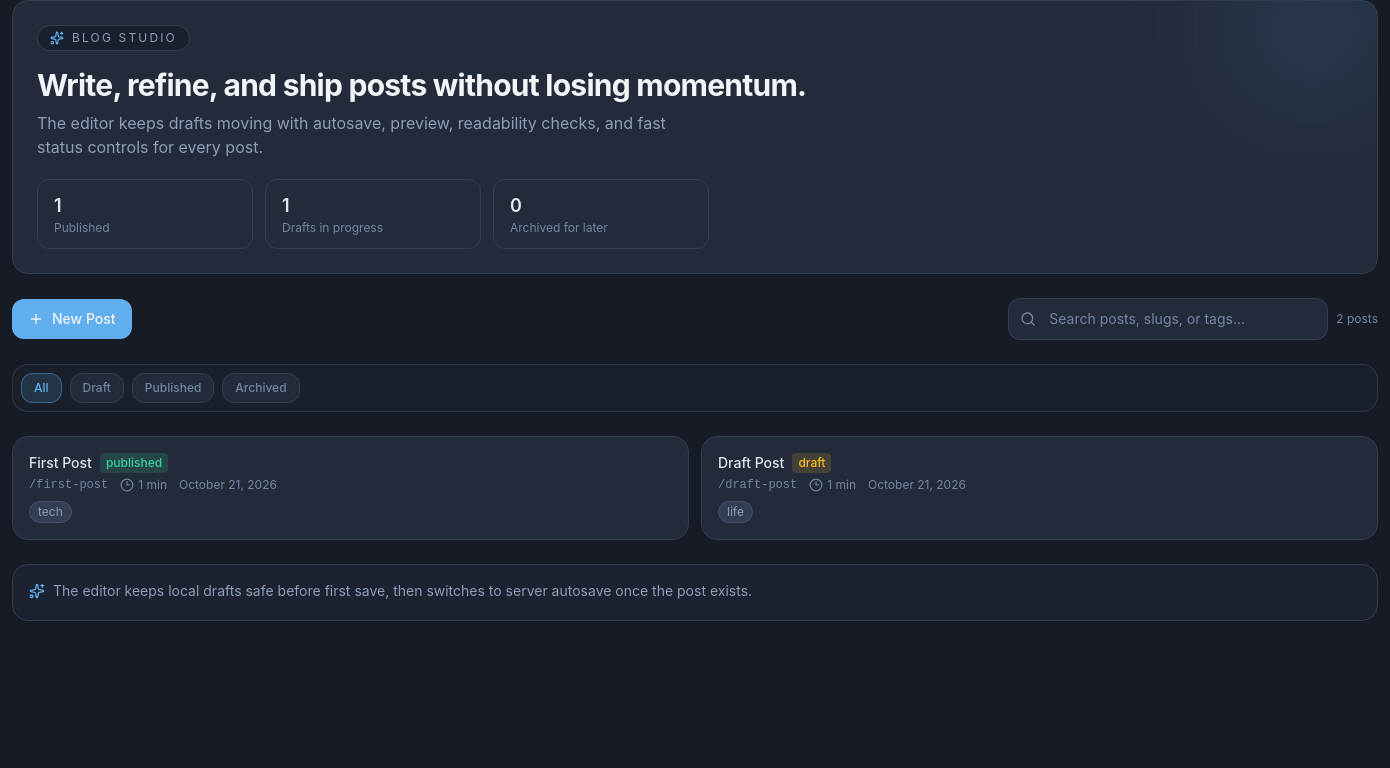
Test: BlogAdminView › filters posts by status
This screenshot has width=1390, height=768.
Expected: the text "First Post" is shown, 29,453 -> 92,473
What coordinates should you click on to do the following:
click the button "draft"
I would click on:
 (97, 388)
Its box is 70,373 -> 124,403.
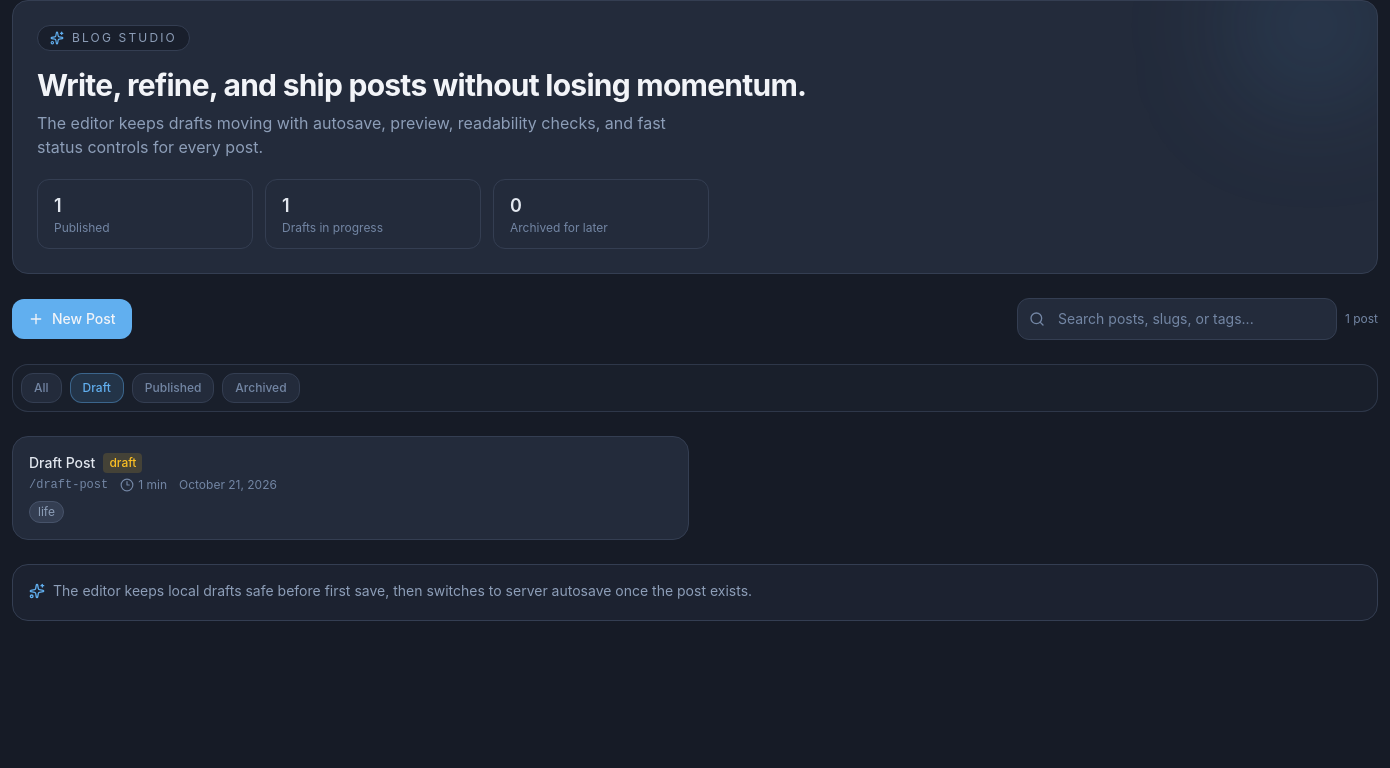
Expected: the text "Draft Post" is shown, 29,453 -> 95,473
Now the text "First Post" is gone
